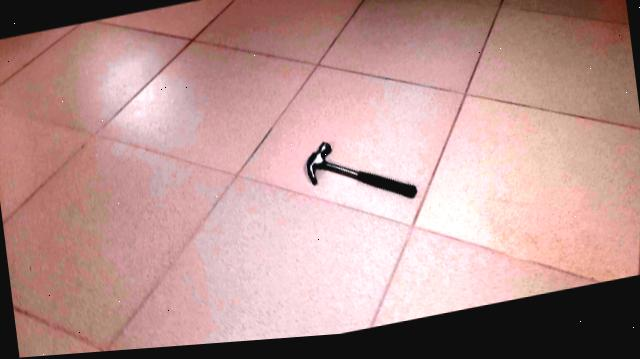hammer: (296, 116, 430, 228)
